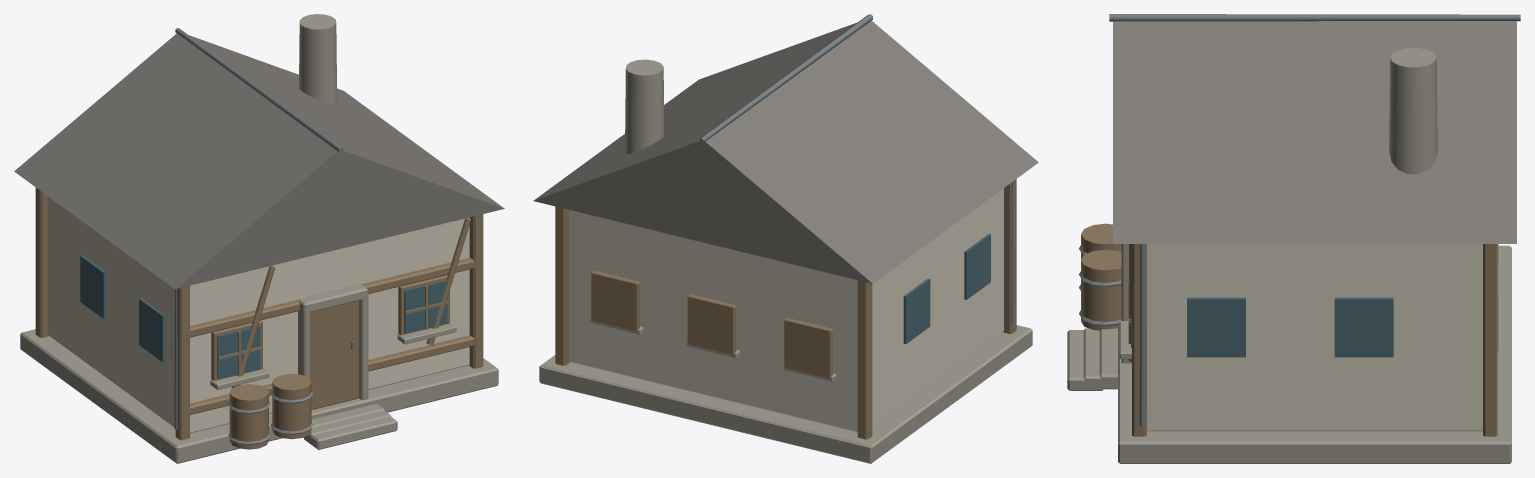
File: bld_atelier_a03.glb
3 renders of one model, left to right at view 1: azimuth 30°, elevation 25°; view 2: azimuth 150°, elevation 25°; view 3: azimuth 270°, elevation 25°, orthographic. The views are drawn at different scales.
Parts seen in each view (by area): view 1: bld_atelier_a03; view 2: bld_atelier_a03; view 3: bld_atelier_a03.
Part boxes in pixels (left/top/right/bottom): bld_atelier_a03: left=14, top=14, right=504, bottom=463; bld_atelier_a03: left=533, top=14, right=1038, bottom=463; bld_atelier_a03: left=1067, top=14, right=1520, bottom=463.
Bounding box in the file's own units: 3.88 × 3.31 × 3.68.
